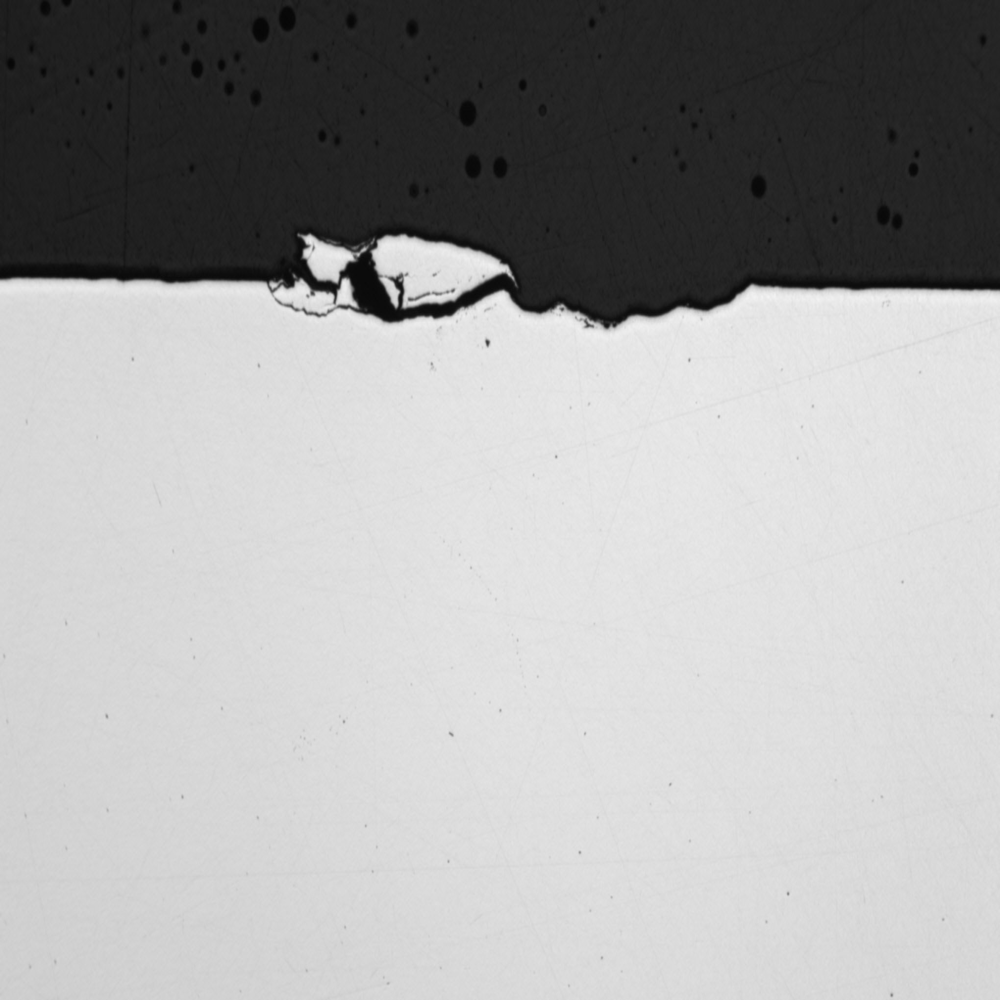crack: (255, 225, 781, 352)
